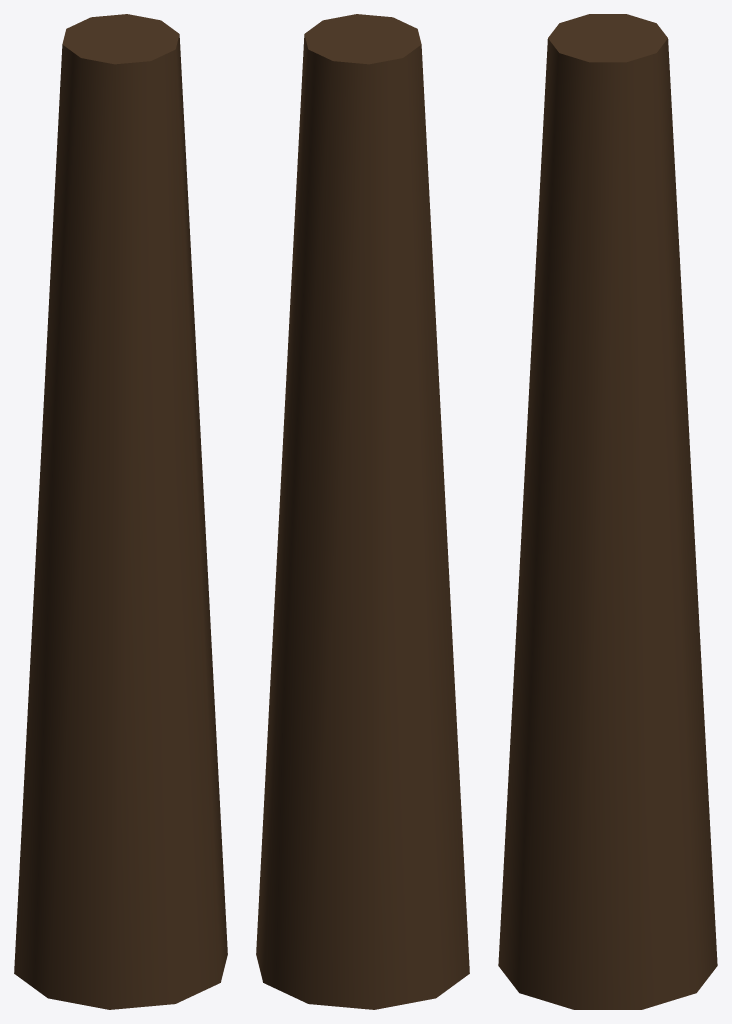
File: root-west.glb
The picture shows the model from 3 angles, left to right: view 1: azimuth 30°, elevation 25°; view 2: azimuth 150°, elevation 25°; view 3: azimuth 270°, elevation 25°; orthographic projection.
Parts seen in each view (by area): view 1: Root west; view 2: Root west; view 3: Root west.
Part boxes in pixels (x1,y1,x2,y2): Root west: (14, 14, 227, 1009); Root west: (256, 14, 469, 1009); Root west: (498, 14, 717, 1009).
Size of the model in its own units: 6.96 by 34.16 by 7.32.
